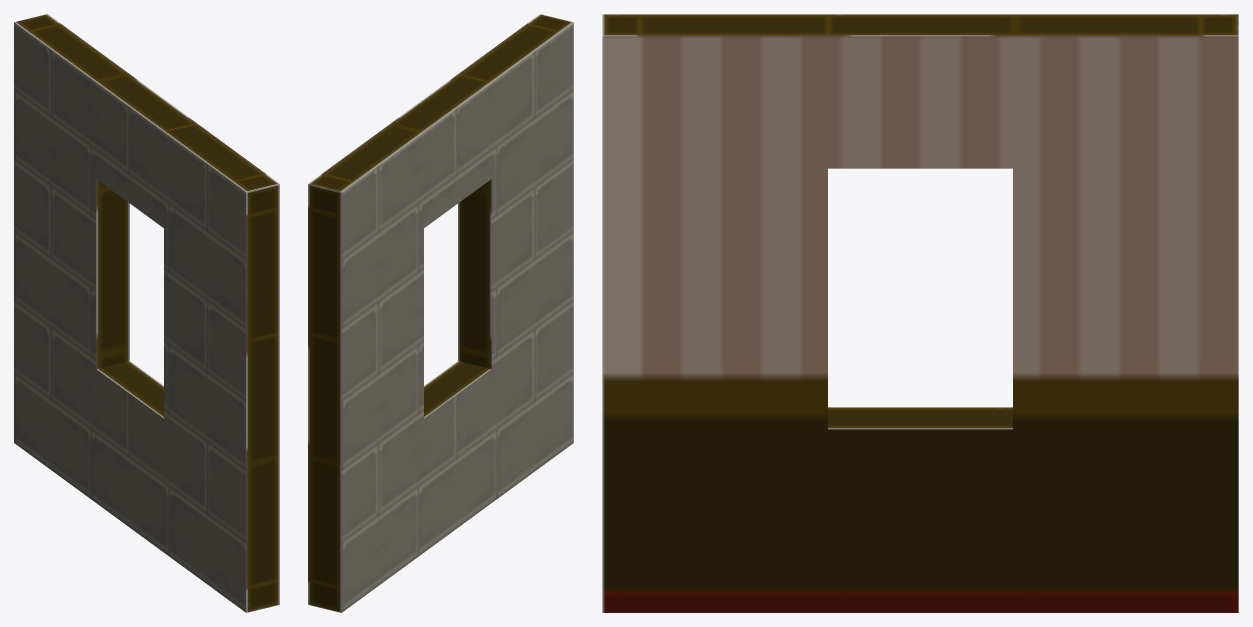
File: Wall_Window_11.fbx
The picture shows the model from 3 angles, left to right: view 1: azimuth 30°, elevation 25°; view 2: azimuth 150°, elevation 25°; view 3: azimuth 270°, elevation 25°; orthographic projection. The views are drawn at different scales.
Parts seen in each view (by area): view 1: Wall_Window_11; view 2: Wall_Window_11; view 3: Wall_Window_11.
Boxes of the visible parts, x1=… form: Wall_Window_11: x1=14, y1=14, x2=279, y2=612; Wall_Window_11: x1=308, y1=14, x2=573, y2=612; Wall_Window_11: x1=602, y1=14, x2=1238, y2=612.
Bounding box in the file's own units: 50 × 600 × 600.
